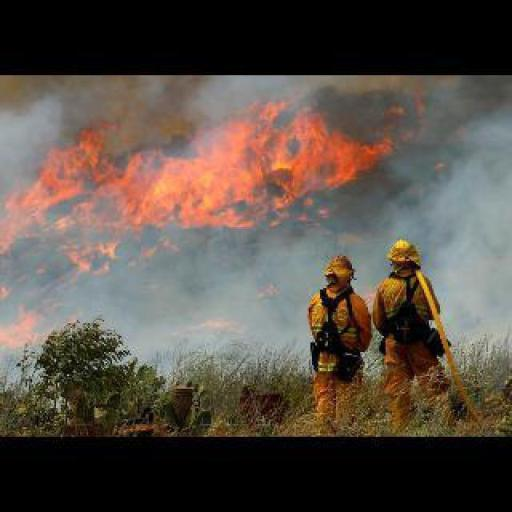smoke: (6, 88, 404, 259), (268, 168, 426, 244), (320, 77, 428, 148)
